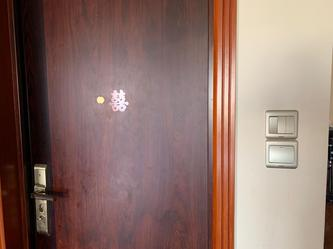switch: (267, 143, 297, 165), (287, 116, 296, 135), (268, 116, 278, 133), (279, 115, 287, 133)
